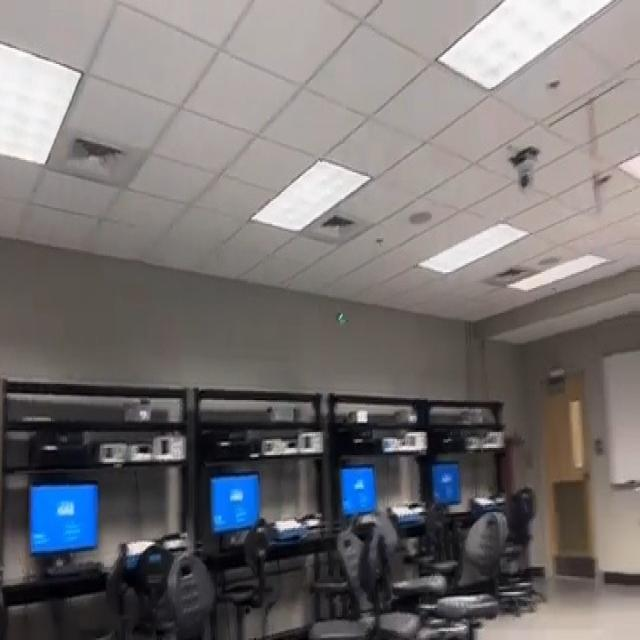drone: (328, 290, 354, 336)
